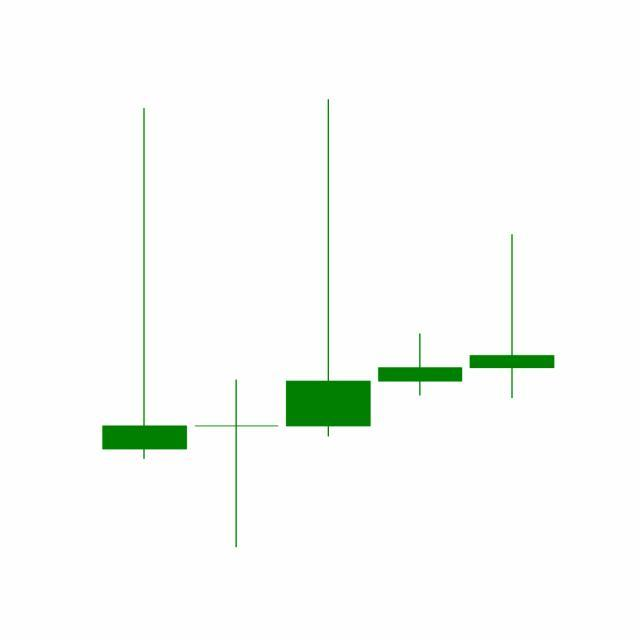Gravestone Doji: (374, 333, 468, 397)
